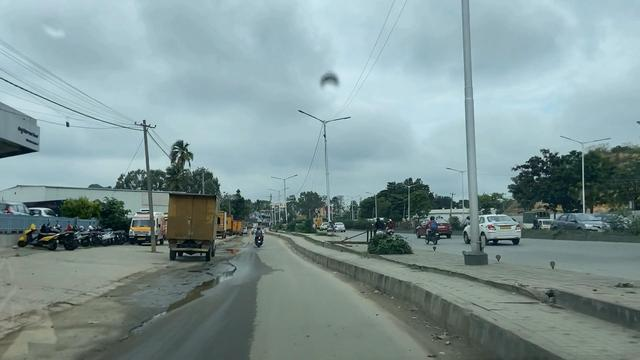HMV: (169, 192, 214, 257)
